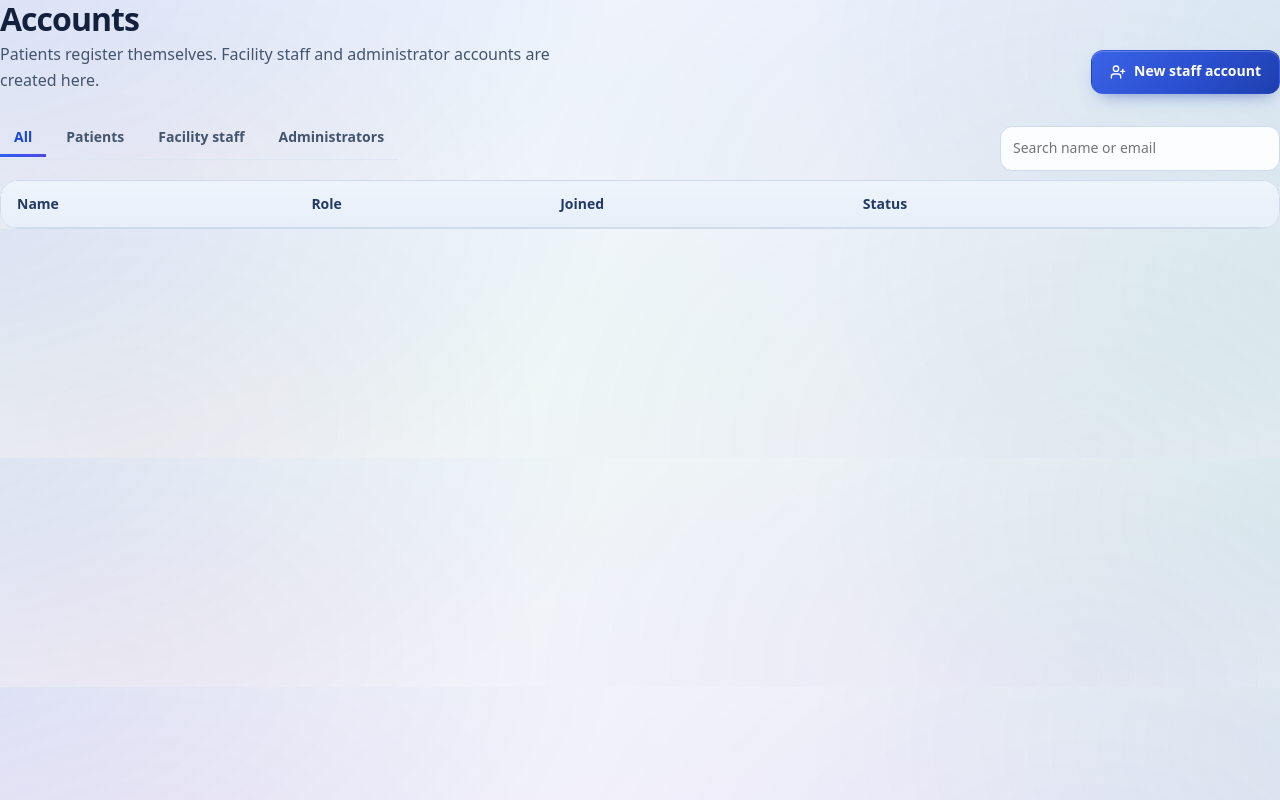
Test: admin staff accounts › shows the server's reason when the demonstration email domain is refused
Click the button "New staff account" at (1186, 72), box [1091,50,1279,94]
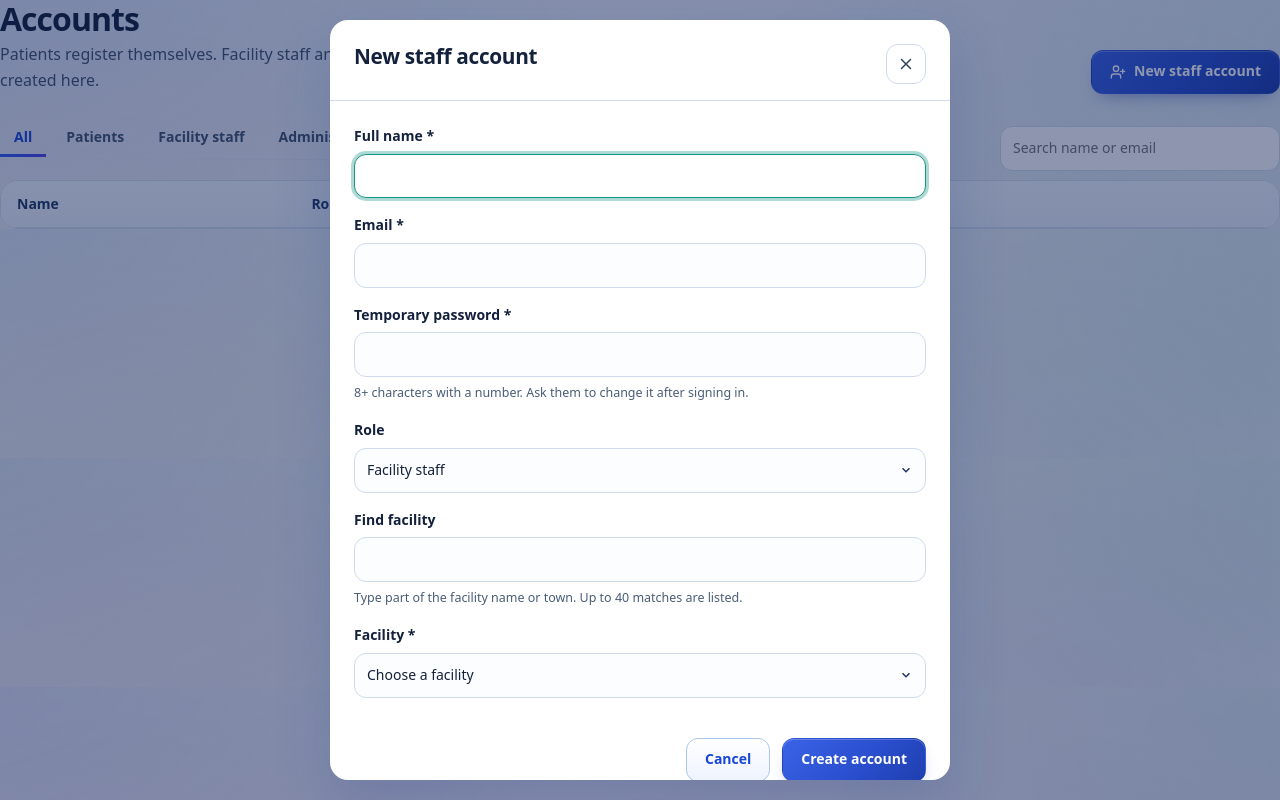
Select "Platform administrator" in the dropdown labelled "Role" at (640, 470), box [354,448,926,493]
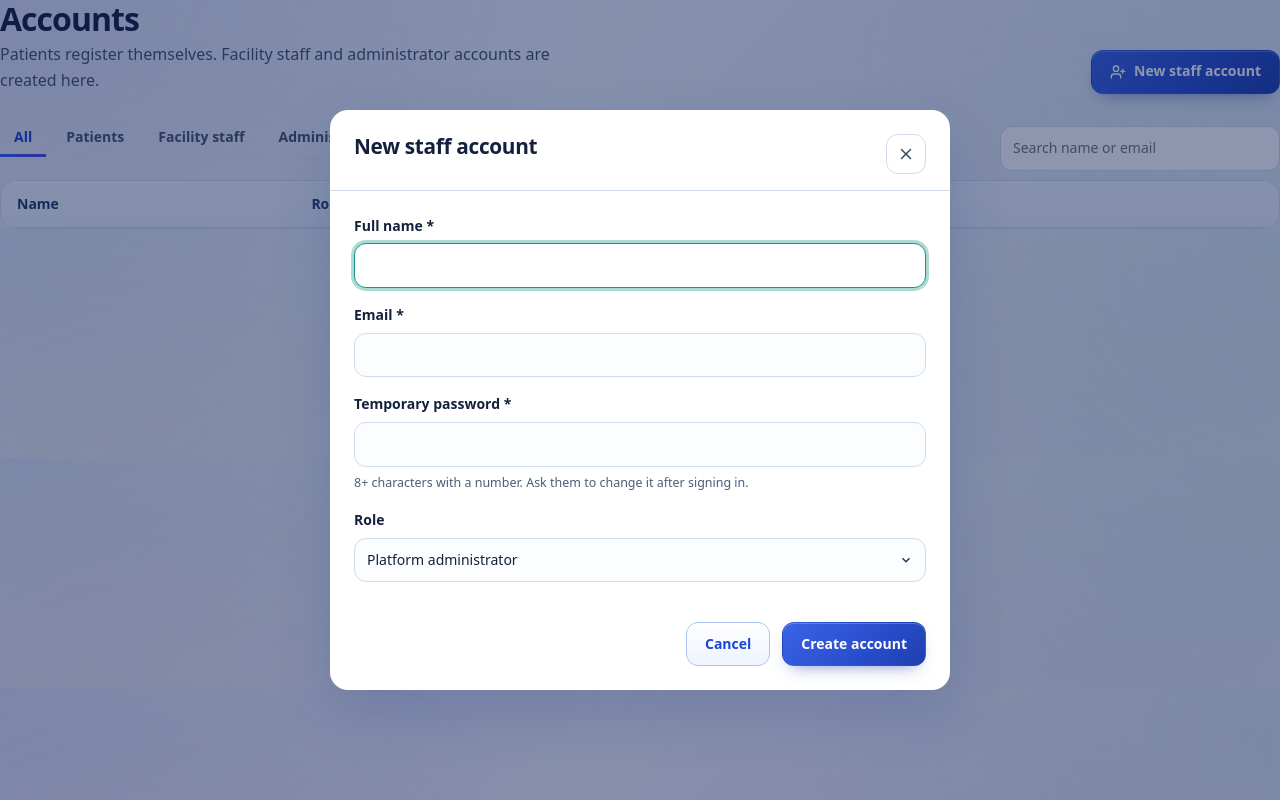
Type "Demo Helper" into the field labelled "Full name *" at (640, 266), box [354,243,926,288]
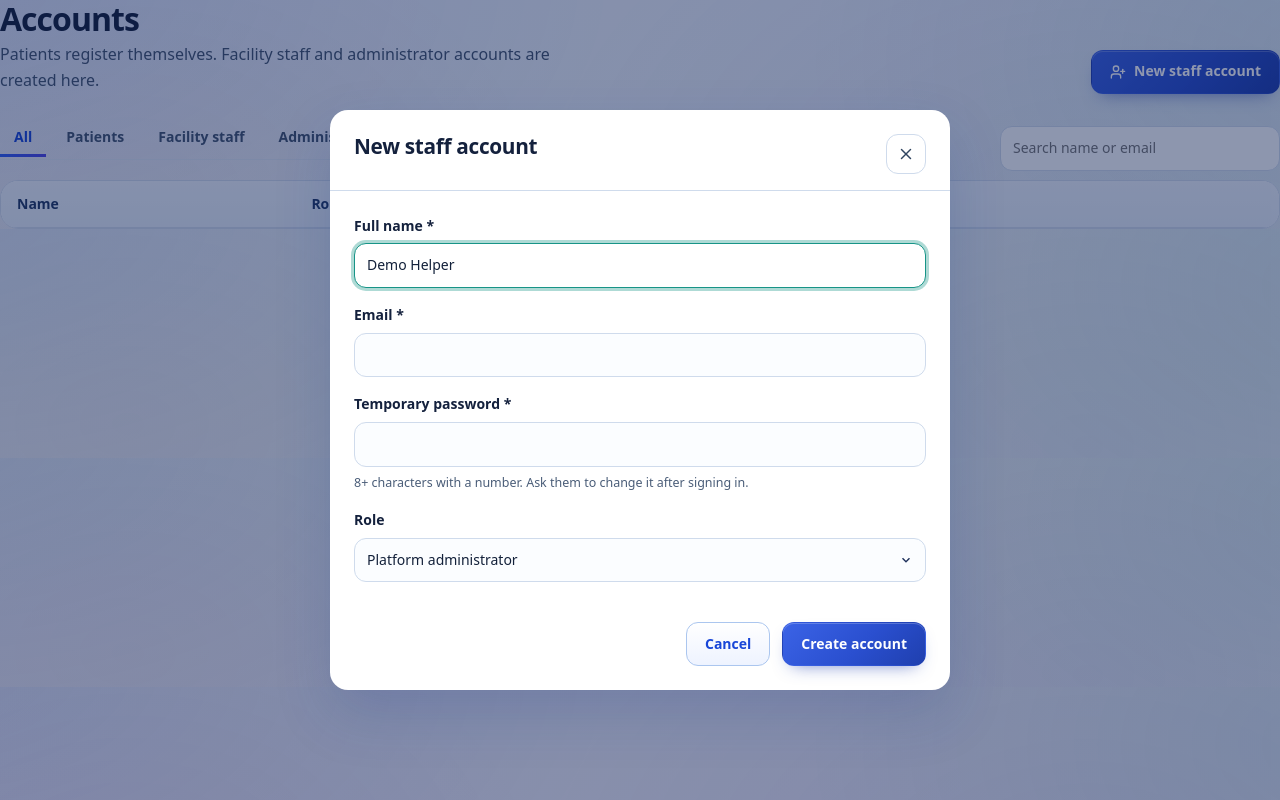
Type "helper@reprocare.demo" into the field labelled "Email *" at (640, 355), box [354,333,926,377]
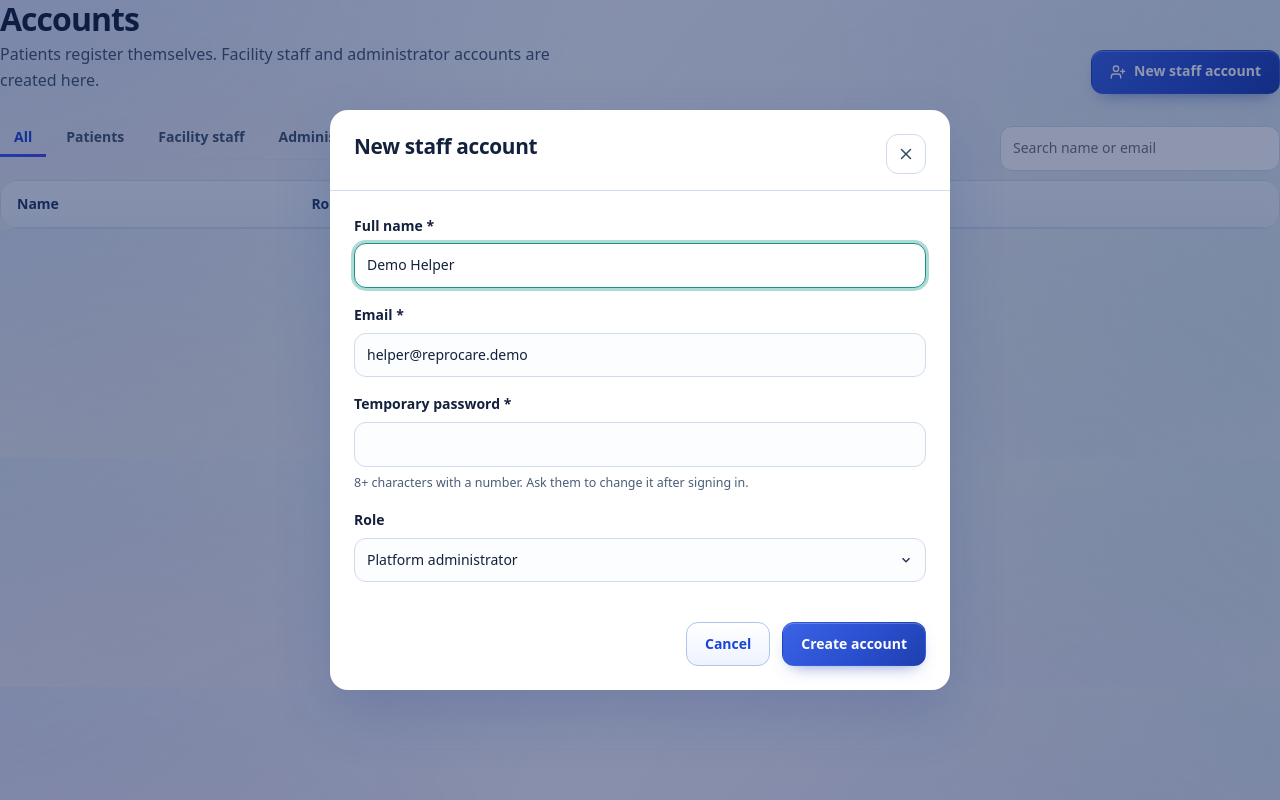
Type "Welcome2026" into the field labelled "Temporary password *" at (640, 444), box [354,422,926,467]
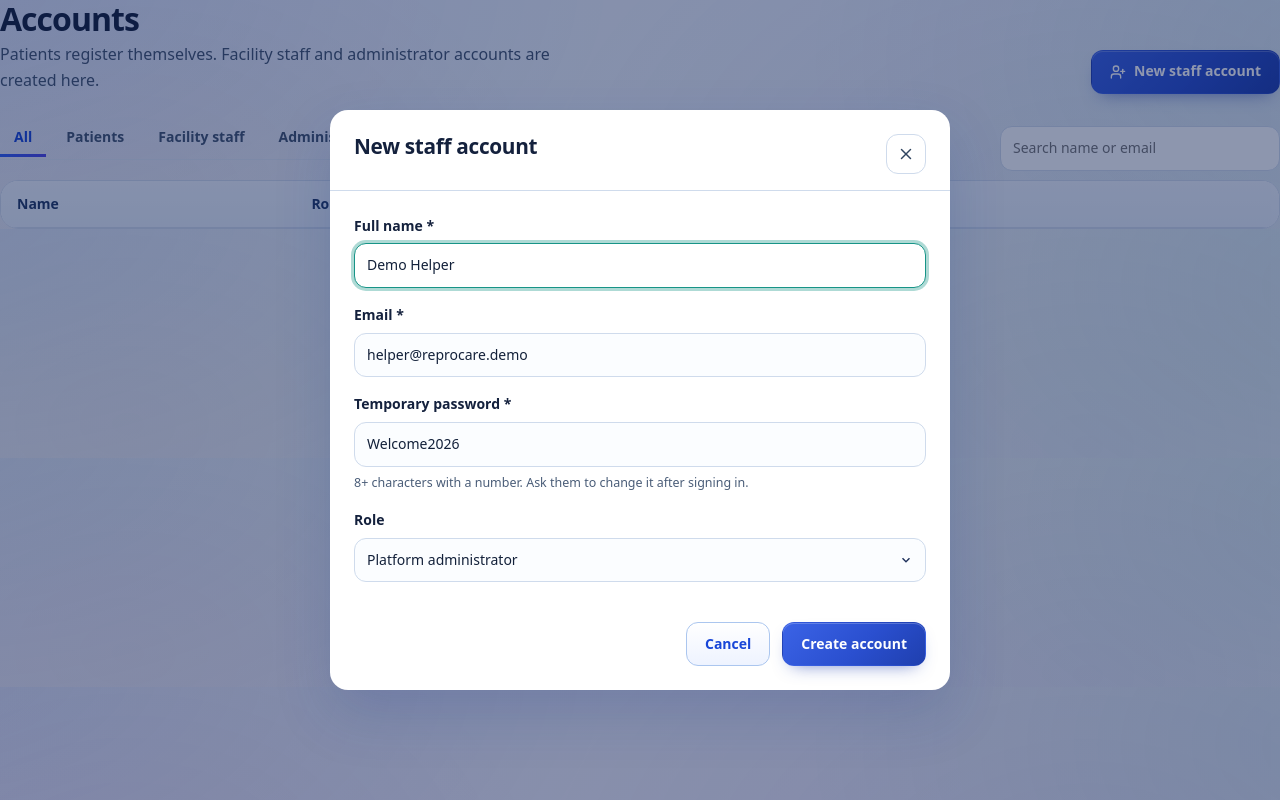
Click the button "Create account" at (854, 644), box [782,622,926,666]
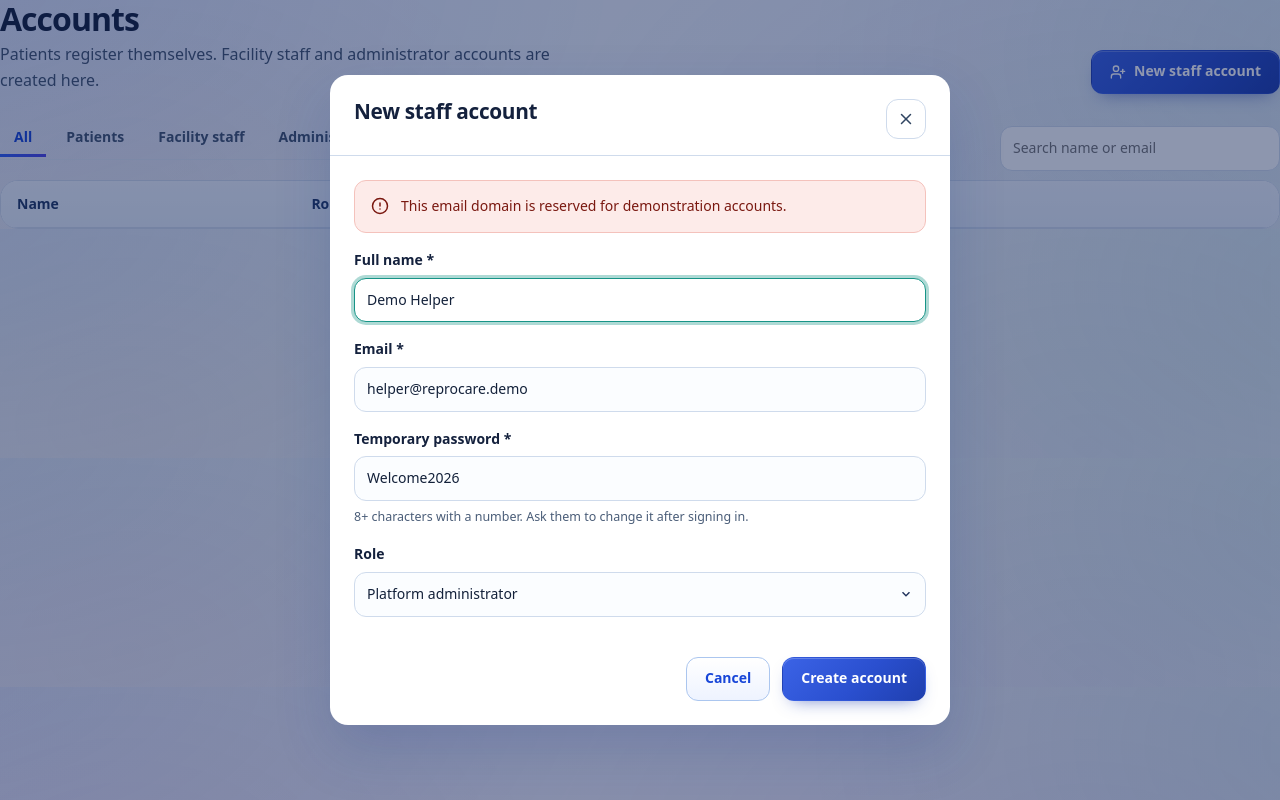
Check: the text "This email domain is reserved for demonstration accounts." is shown, box [401,195,787,218]
